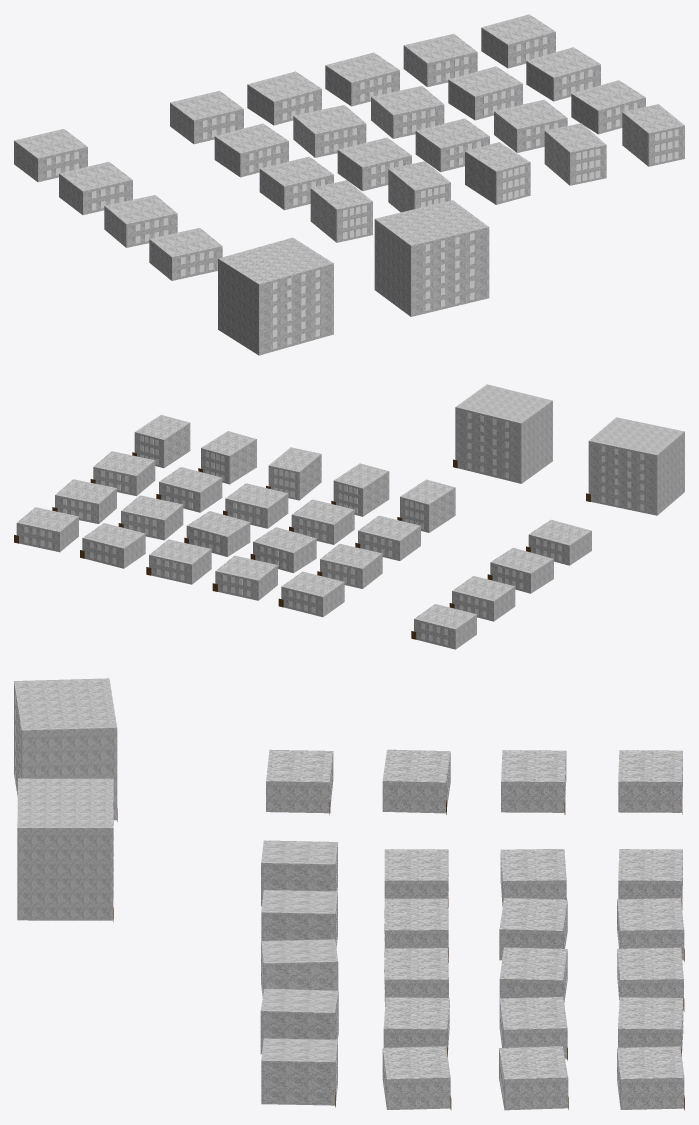
File: bld_mlmwpxjt_de7i4zp.glb
3 renders of one model, top to bottom at view 1: azimuth 30°, elevation 25°; view 2: azimuth 150°, elevation 25°; view 3: azimuth 270°, elevation 25°, orthographic. The views are drawn at different scales.
Visible parts, largest first — view 1: building-building-1771109245777-35, building-building-1771109245777-37, building-building-1771109245777-25, building-building-1771109245777-27, building-building-1771109245777-23, building-building-1771109245777-26, building-building-1771109245776-13, building-building-1771109245776-6, building-building-1771109245776-3, building-building-1771109245776-12, building-building-1771109245776-9, building-building-1771109245776-21 (+14 smaller); view 2: building-building-1771109245777-37, building-building-1771109245777-35, building-building-1771109245777-24, building-building-1771109245777-26, building-building-1771109245777-27, building-building-1771109245776-5, building-building-1771109245777-23, building-building-1771109245776-2, building-building-1771109245776-4, building-building-1771109245776-0, building-building-1771109245776-6, building-building-1771109245776-3 (+14 smaller); view 3: building-building-1771109245777-37, building-building-1771109245777-35, building-building-1771109245777-27, building-building-1771109245776-13, building-building-1771109245776-20, building-building-1771109245776-14, building-building-1771109245776-6, building-building-1771109245776-21, building-building-1771109245776-7, building-building-1771109245776-0, building-building-1771109245777-26, building-building-1771109245777-25 (+14 smaller).
Boxes of the visible parts, x1,y1,x2,y2 form: building-building-1771109245777-35: (218,237,333,355); building-building-1771109245777-37: (374,200,489,316); building-building-1771109245777-25: (465,142,530,204); building-building-1771109245777-27: (622,104,684,166); building-building-1771109245777-23: (310,180,372,242); building-building-1771109245777-26: (544,123,606,185); building-building-1771109245776-13: (526,47,600,101); building-building-1771109245776-6: (481,14,555,68); building-building-1771109245776-3: (247,71,321,125); building-building-1771109245776-12: (448,66,522,120); building-building-1771109245776-9: (214,123,288,177); building-building-1771109245776-21: (149,228,222,280); building-building-1771109245777-37: (453,384,552,483); building-building-1771109245777-35: (586,417,684,515); building-building-1771109245777-24: (331,463,389,516); building-building-1771109245777-26: (198,431,256,484); building-building-1771109245777-27: (132,415,190,468); building-building-1771109245776-5: (80,523,145,568); building-building-1771109245777-23: (397,479,455,532); building-building-1771109245776-2: (278,571,344,617); building-building-1771109245776-4: (146,539,211,584); building-building-1771109245776-0: (411,604,476,649); building-building-1771109245776-6: (14,507,78,552); building-building-1771109245776-3: (212,555,277,600); building-building-1771109245777-37: (17,778,113,922); building-building-1771109245777-35: (14,678,117,821); building-building-1771109245777-27: (261,1038,337,1107); building-building-1771109245776-13: (499,1046,568,1110); building-building-1771109245776-20: (382,1046,451,1109); building-building-1771109245776-14: (382,749,450,814); building-building-1771109245776-6: (617,1046,684,1110); building-building-1771109245776-21: (266,749,333,814); building-building-1771109245776-7: (501,750,566,814); building-building-1771109245776-0: (618,750,682,814); building-building-1771109245777-26: (260,988,338,1054); building-building-1771109245777-25: (261,939,338,997).
Size of the model in its own units: 151 by 19.23 by 126.
130 materials, 26 textured.
